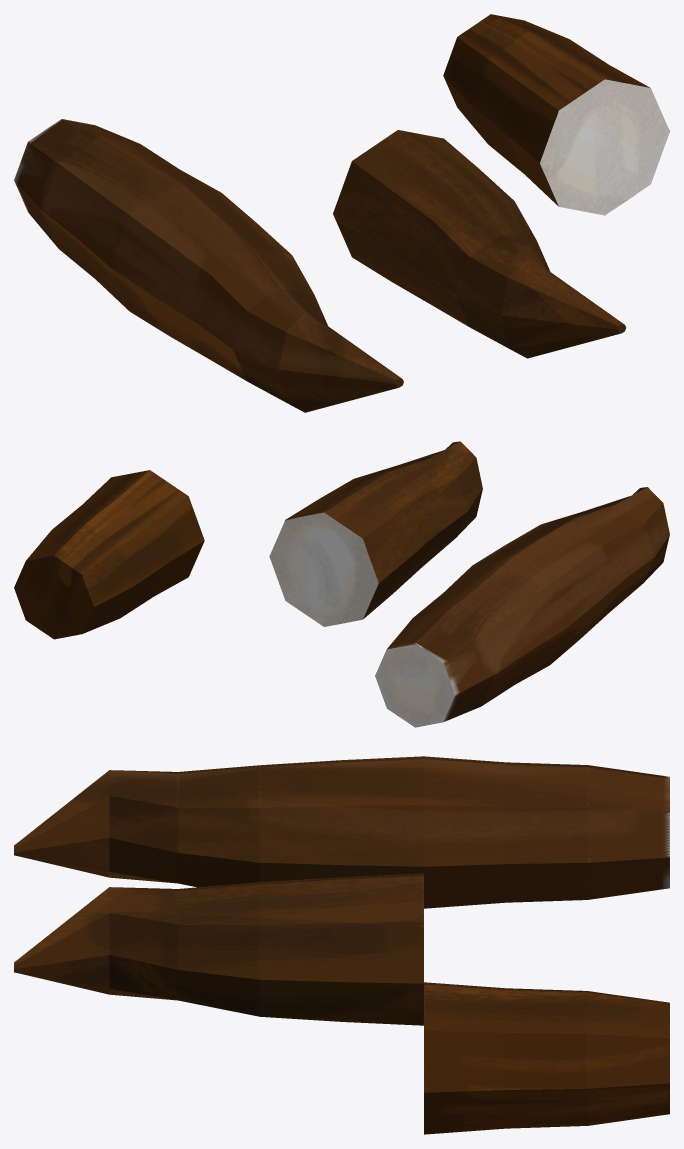
The model's file is Yucas cocina.fbx.
The picture shows the model from 3 angles, top to bottom: view 1: azimuth 30°, elevation 25°; view 2: azimuth 150°, elevation 25°; view 3: azimuth 270°, elevation 25°; orthographic projection. The views are drawn at different scales.
Parts seen in each view (by area): view 1: Yuca_1, Yuca_2, Yuca_3; view 2: Yuca_1, Yuca_2, Yuca_3; view 3: Yuca_1, Yuca_2, Yuca_3.
Boxes of the visible parts, <box> form: Yuca_1: <box>14,119,403,412</box>; Yuca_2: <box>333,130,626,358</box>; Yuca_3: <box>443,14,669,215</box>; Yuca_1: <box>375,487,669,727</box>; Yuca_2: <box>269,441,482,626</box>; Yuca_3: <box>14,470,204,639</box>; Yuca_1: <box>14,756,669,908</box>; Yuca_2: <box>14,873,423,1025</box>; Yuca_3: <box>424,982,669,1134</box>.
Size of the model in its own units: 11.74 by 2.73 by 11.06.
Materials: 1 (1 with a texture image).
